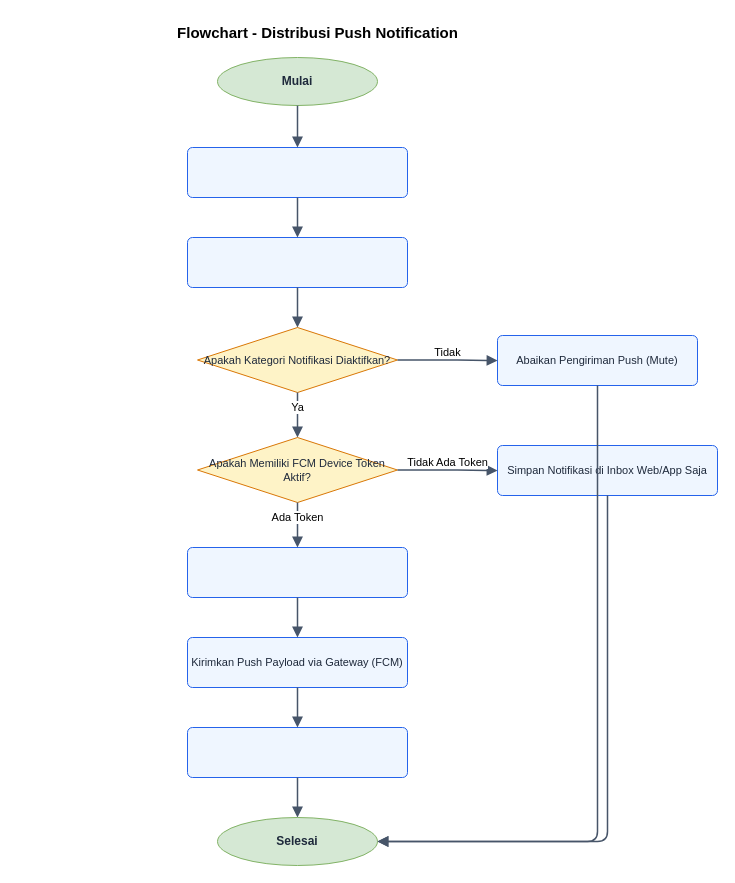
Some shapes in this 735 by 883 pixel diagram are drawn without their labels. The centre of each missing label's shape, as x and y in pixels:
"Periksa notification_preferences Pengguna" goes at point (297, 262).
"Simpan Entri ke Tabel notifications" goes at point (297, 572).
"Sistem Merekam Event (Tiket/Jadwal/Alert)" goes at point (297, 172).
"Tampilkan Notifikasi Pop-up di Perangkat" goes at point (297, 752).
